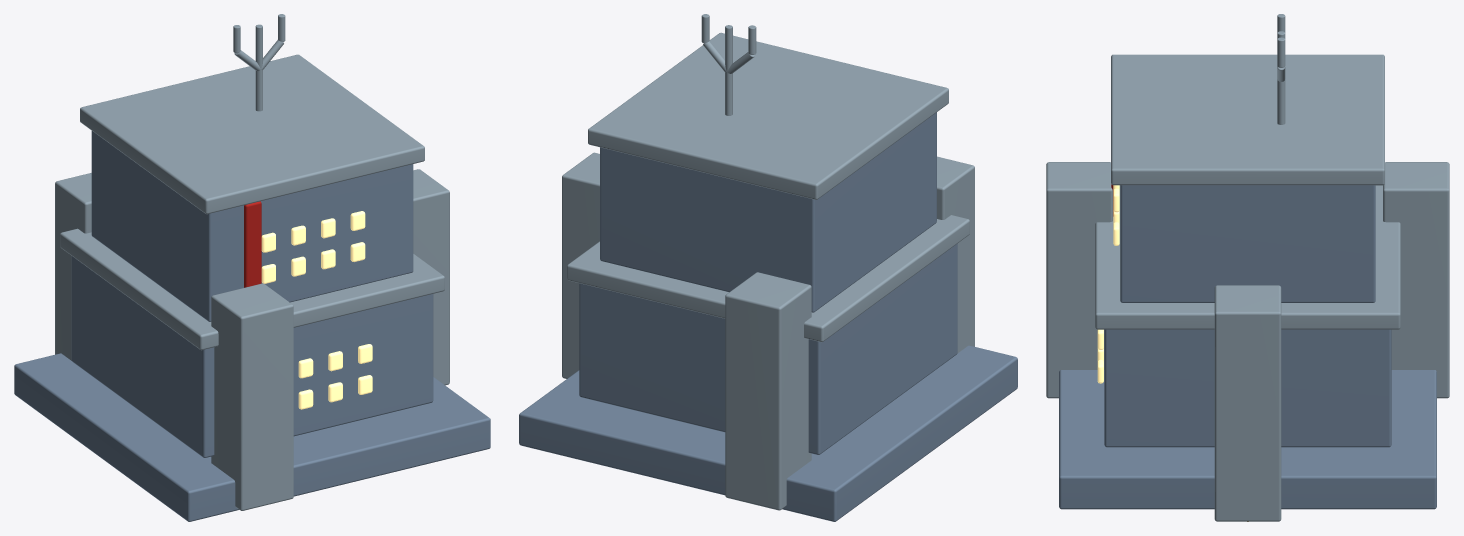
The picture shows the model from 3 angles, left to right: view 1: azimuth 30°, elevation 25°; view 2: azimuth 150°, elevation 25°; view 3: azimuth 270°, elevation 25°; orthographic projection. The views are drawn at different scales.
Parts seen in each view (by area): view 1: Block roof ledge.001, Modular block storey.001, Modular block storey, Foundation slab, Block buttress.002, Block roof ledge, Block buttress, Block buttress.001, Vertical block colour strip.001, Aerial stem; view 2: Modular block storey.001, Block roof ledge.001, Modular block storey, Foundation slab, Block buttress.001, Block roof ledge, Block buttress, Block buttress.002, Aerial stem; view 3: Block roof ledge.001, Modular block storey.001, Foundation slab, Modular block storey, Block buttress, Block buttress.001, Block buttress.002, Block roof ledge.
Part boxes in pixels (left/top/right/bottom): Block roof ledge.001: left=80, top=54, right=424, bottom=214; Modular block storey.001: left=91, top=131, right=413, bottom=321; Modular block storey: left=71, top=256, right=433, bottom=457; Foundation slab: left=14, top=353, right=490, bottom=521; Block buttress.002: left=211, top=283, right=293, bottom=510; Block roof ledge: left=60, top=228, right=444, bottom=350; Block buttress: left=413, top=169, right=449, bottom=385; Block buttress.001: left=55, top=173, right=91, bottom=360; Vertical block colour strip.001: left=244, top=201, right=261, bottom=287; Aerial stem: left=255, top=24, right=262, bottom=111; Modular block storey.001: left=600, top=112, right=936, bottom=312; Block roof ledge.001: left=588, top=32, right=948, bottom=199; Modular block storey: left=579, top=243, right=957, bottom=454; Foundation slab: left=519, top=345, right=1017, bottom=521; Block buttress.001: left=725, top=272, right=811, bottom=510; Block roof ledge: left=567, top=215, right=969, bottom=342; Block buttress: left=562, top=152, right=599, bottom=378; Block buttress.002: left=937, top=156, right=974, bottom=353; Aerial stem: left=725, top=25, right=732, bottom=115; Block roof ledge.001: left=1111, top=54, right=1384, bottom=185; Modular block storey.001: left=1120, top=185, right=1375, bottom=302; Foundation slab: left=1059, top=370, right=1436, bottom=509; Modular block storey: left=1104, top=329, right=1391, bottom=447; Block buttress: left=1214, top=285, right=1281, bottom=521; Block buttress.001: left=1383, top=162, right=1449, bottom=398; Block buttress.002: left=1046, top=162, right=1112, bottom=398; Block roof ledge: left=1095, top=185, right=1400, bottom=329.
Size of the model in its own units: 2.25 by 2.47 by 2.18.
